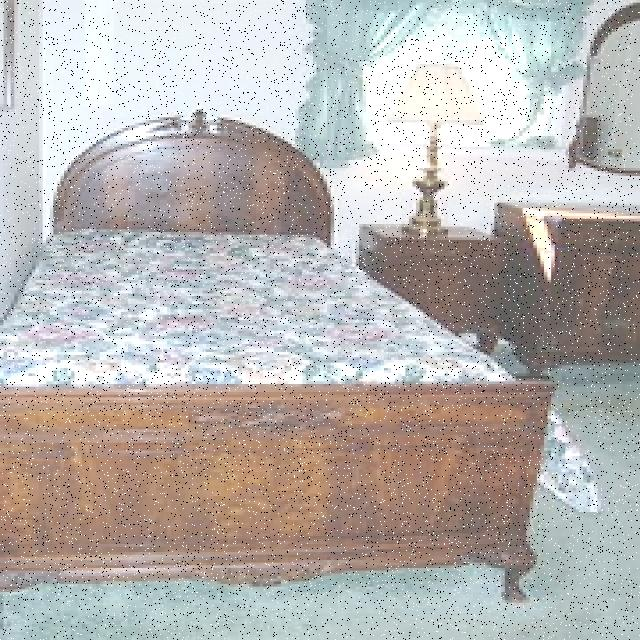bed: (0, 115, 512, 582)
